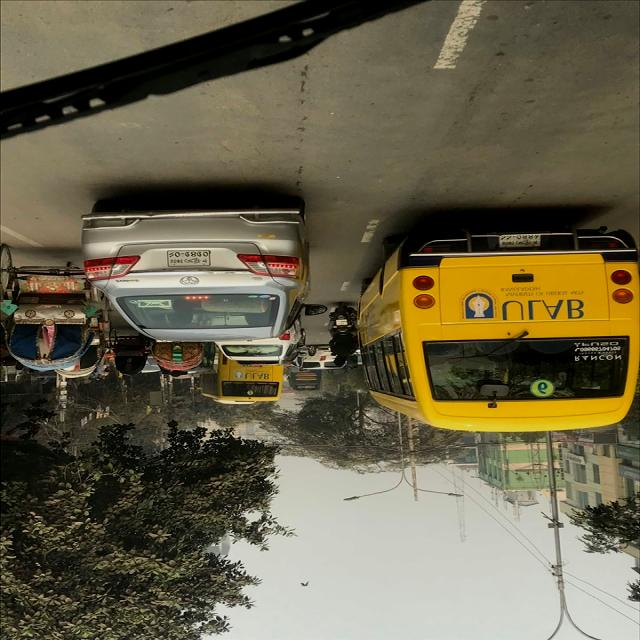silver: (82, 192, 320, 345)
white: (215, 319, 298, 362), (292, 348, 346, 370)
